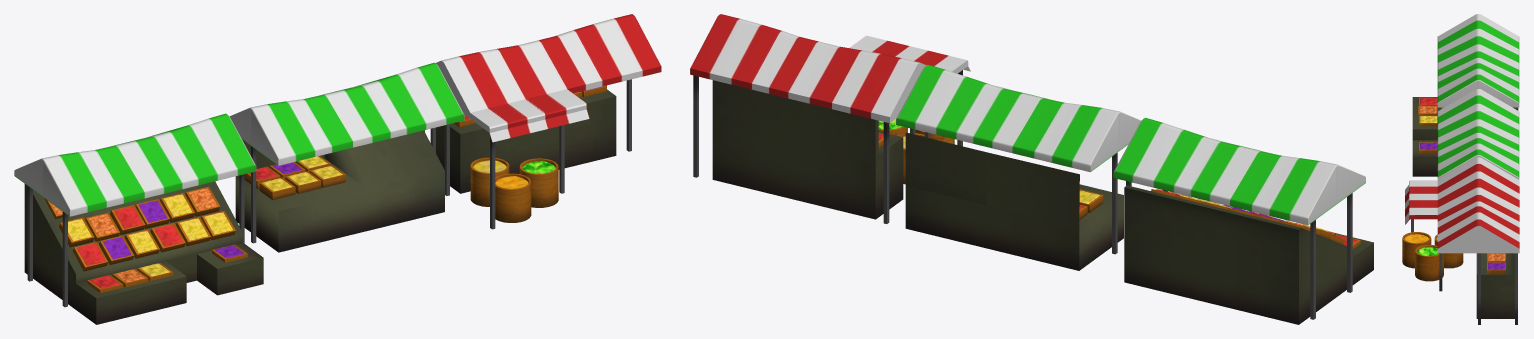
Rendered from french_fruitstand.glb.
3 views of the same model, side by side, from view 1: azimuth 30°, elevation 25°; view 2: azimuth 150°, elevation 25°; view 3: azimuth 270°, elevation 25° (orthographic). The views are drawn at different scales.
Parts seen in each view (by area): view 1: fruitstand; view 2: fruitstand; view 3: fruitstand.
Part boxes in pixels (x1=…): fruitstand: x1=14, y1=14, x2=661, y2=324; fruitstand: x1=690, y1=14, x2=1373, y2=324; fruitstand: x1=1402, y1=14, x2=1519, y2=324.
Bounding box in the file's own units: 18.92 × 4.13 × 4.41.
1 material, 1 textured.
